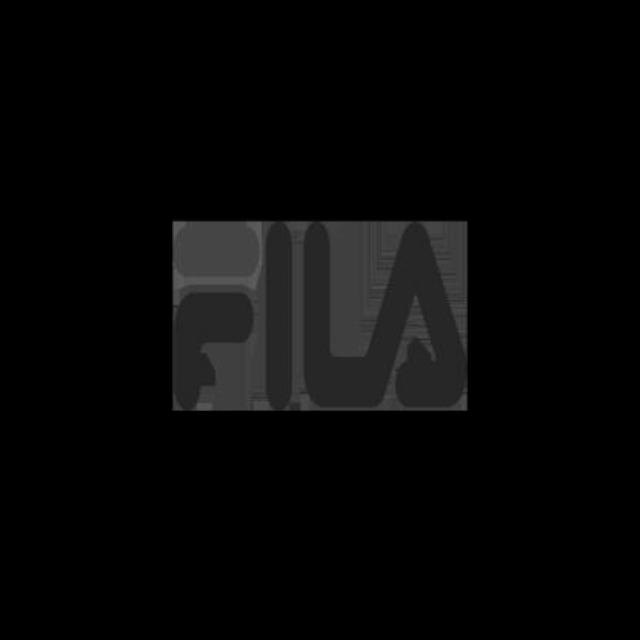FILA_original: (152, 170, 478, 460)
